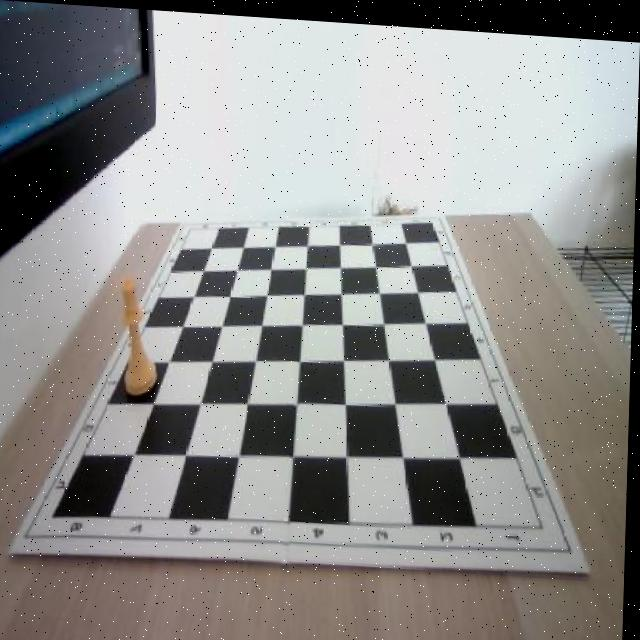white-pawn: (119, 273, 161, 392)
